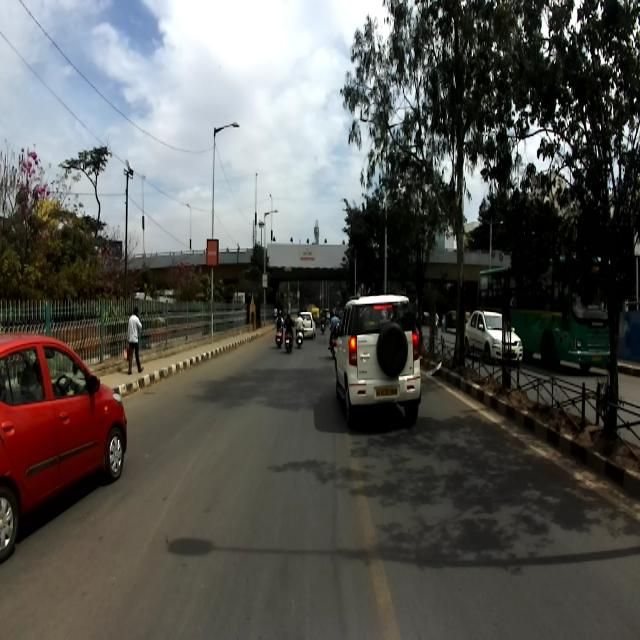Car: (0, 332, 126, 563)
Car_Mahindra: (334, 294, 421, 429), (462, 310, 523, 362)
Car_TATA: (299, 308, 315, 338)
bus: (478, 253, 614, 371)
scooter: (284, 320, 294, 352), (274, 322, 284, 348), (294, 318, 302, 348)
